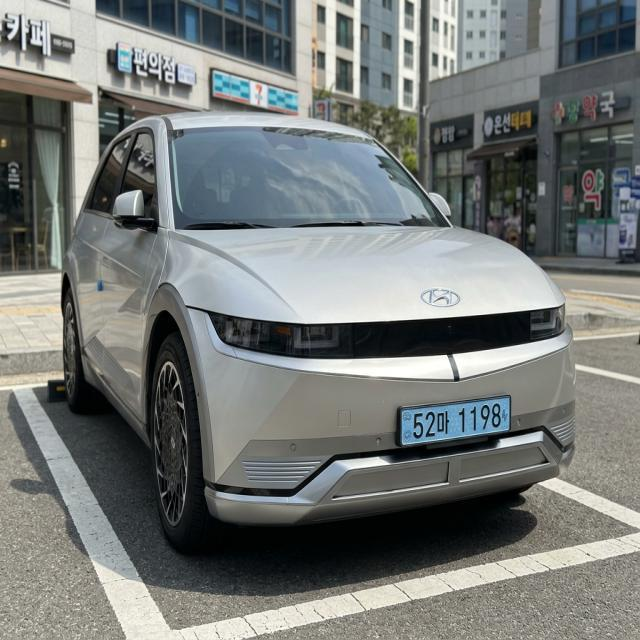car: (386, 390, 523, 455)
carev: (500, 391, 514, 454), (398, 398, 413, 449)
